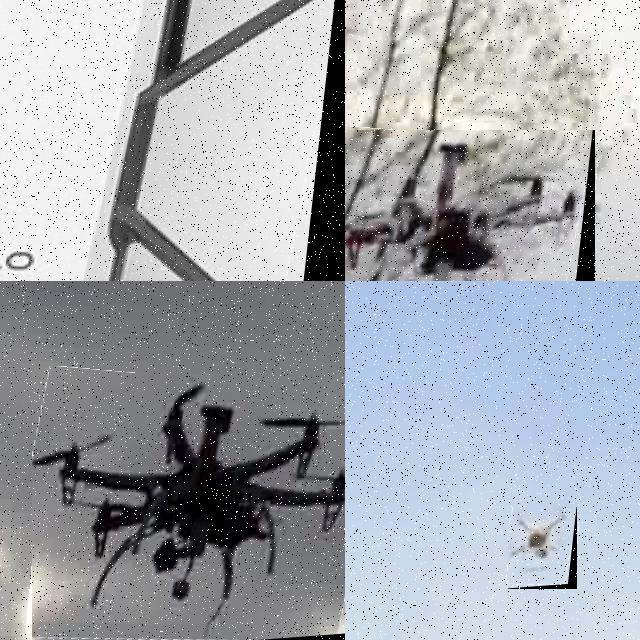drone: (0, 0, 345, 281), (32, 373, 345, 640), (345, 130, 595, 281), (508, 507, 577, 589)
